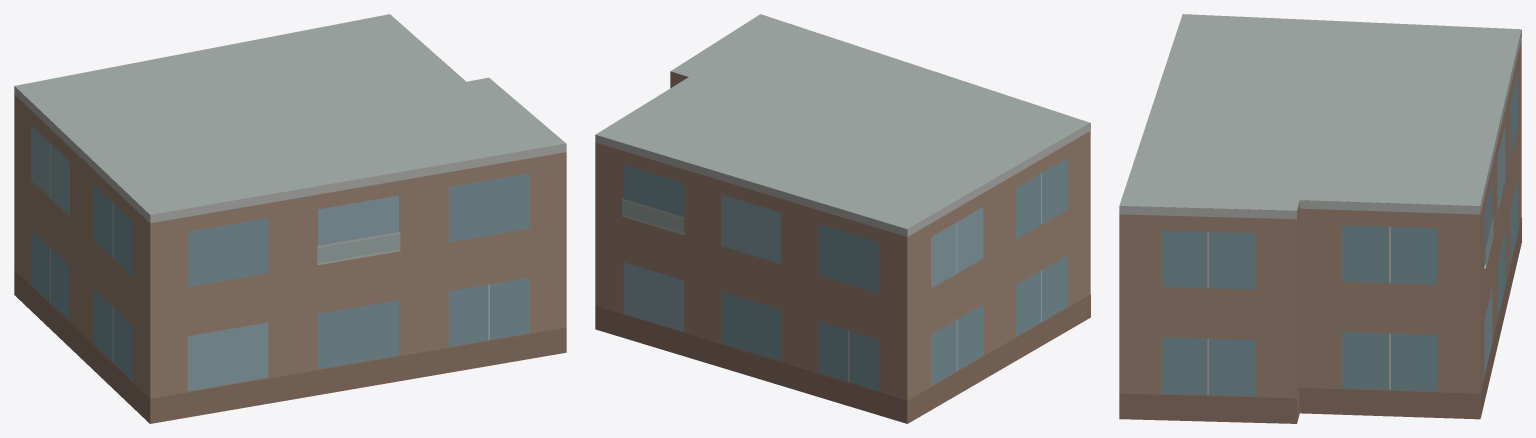
The model's file is survey-upis-33000342.glb.
3 views of the same model, side by side, from view 1: azimuth 30°, elevation 25°; view 2: azimuth 150°, elevation 25°; view 3: azimuth 270°, elevation 25° (orthographic). The views are drawn at different scales.
Visible parts, largest first — view 1: survey-upis-33000342.tmp; view 2: survey-upis-33000342.tmp; view 3: survey-upis-33000342.tmp.
Part boxes in pixels (x1,y1,x2,y2): survey-upis-33000342.tmp: (14,14,566,423); survey-upis-33000342.tmp: (595,14,1090,423); survey-upis-33000342.tmp: (1119,14,1521,423).
Size of the model in its own units: 12.08 by 6.1 by 10.45.
